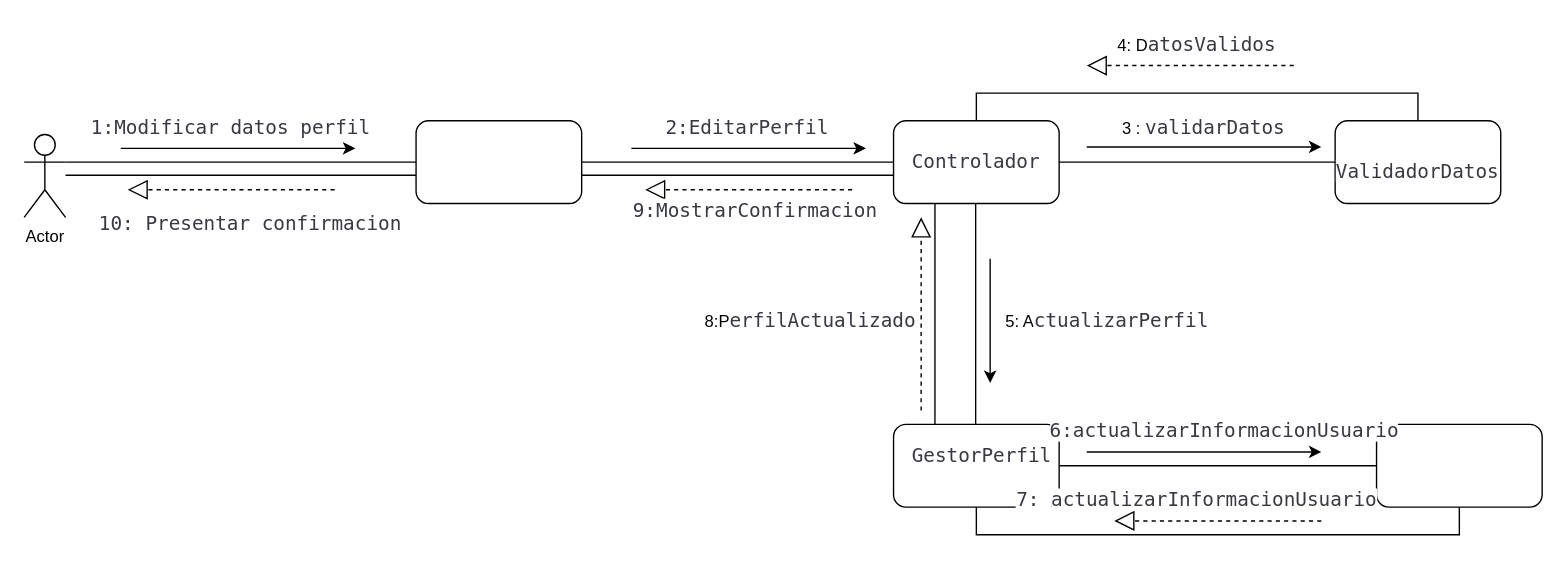
Some shapes in this 1566 by 564 pixel diagram are drawn without their labels. Here are the shapes that lost their labels. From the top down, the centre of each, then its label:
the point at 498,161: Interfaz
the point at 1458,465: Base de Datos
